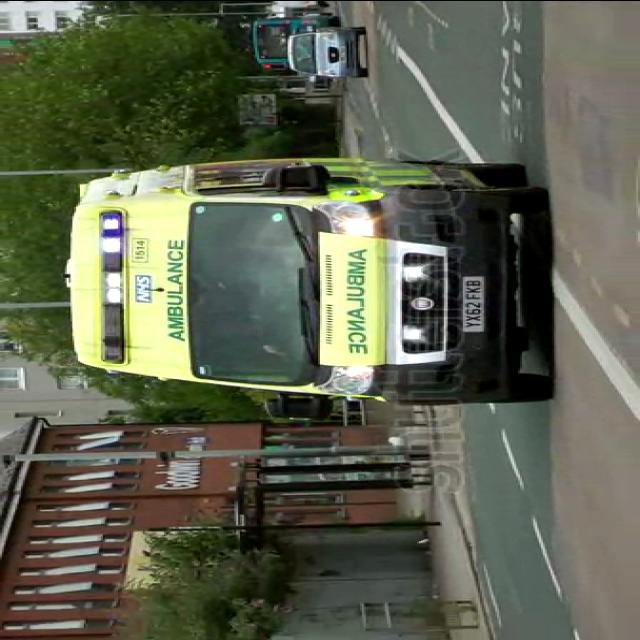ambulance: (64, 162, 554, 418)
